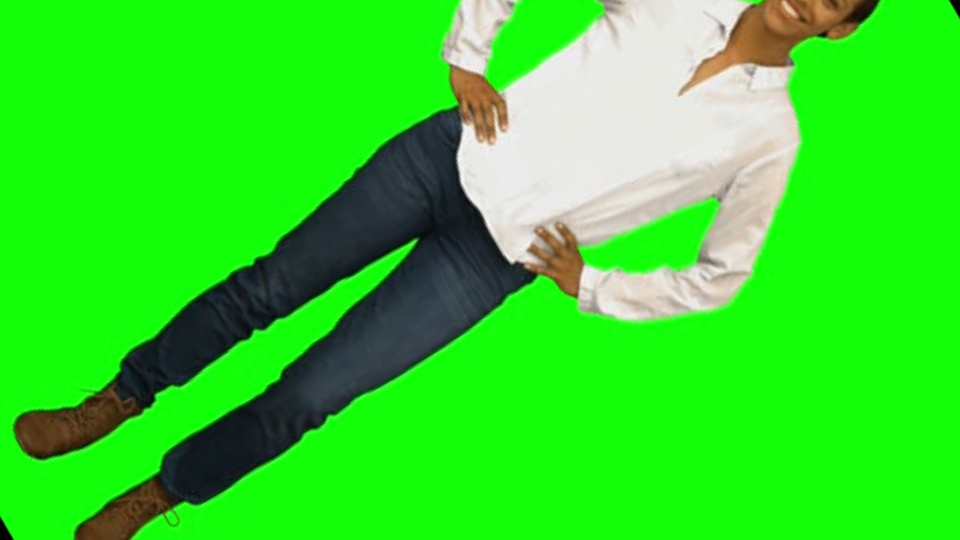arm: (620, 154, 842, 326)
chest: (477, 48, 741, 239)
foot: (23, 377, 137, 458), (79, 484, 178, 540)
hand: (440, 62, 511, 143), (516, 222, 600, 283)
leg: (93, 148, 471, 392), (184, 243, 519, 509)
neck: (741, 1, 789, 72)
